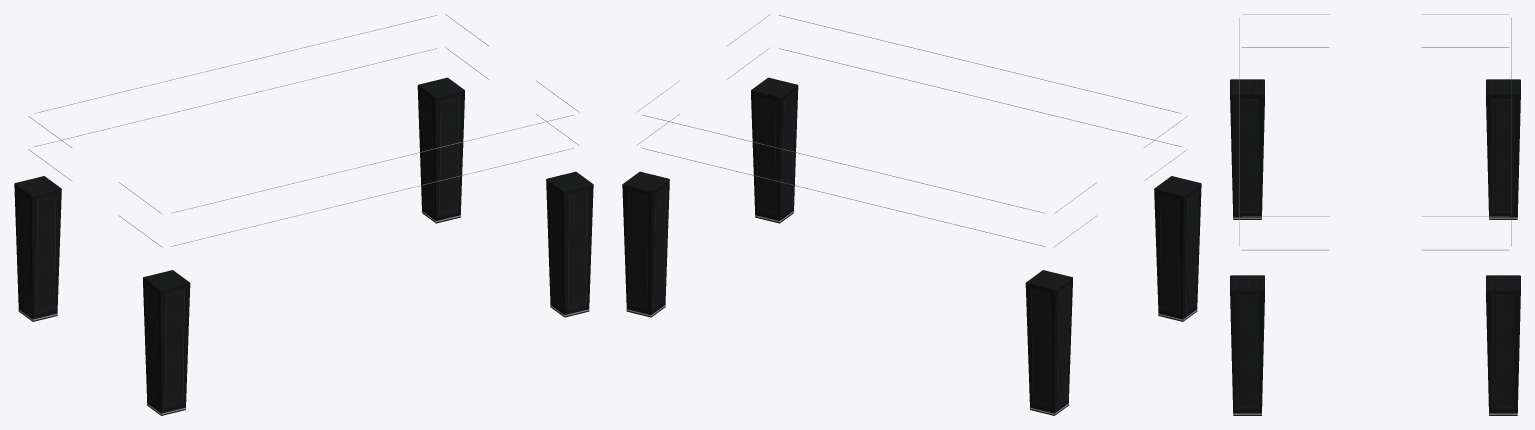
File: pro-league-new-legs.glb
The picture shows the model from 3 angles, left to right: view 1: azimuth 30°, elevation 25°; view 2: azimuth 150°, elevation 25°; view 3: azimuth 270°, elevation 25°; orthographic projection.
Visible parts, largest first — view 1: table_leg_pro.002, table_leg_pro.001, table_leg_pro, table_leg_pro.003; view 2: table_leg_pro.003, table_leg_pro, table_leg_pro.001, table_leg_pro.002; view 3: table_leg_pro, table_leg_pro.001, table_leg_pro.002, table_leg_pro.003.
Part boxes in pixels (box(x1,y1,x2,y2)): table_leg_pro.002: box(546, 171, 593, 314); table_leg_pro.001: box(14, 176, 61, 319); table_leg_pro: box(143, 270, 190, 413); table_leg_pro.003: box(417, 77, 464, 220); table_leg_pro.003: box(622, 171, 669, 314); table_leg_pro: box(1154, 176, 1201, 319); table_leg_pro.001: box(1025, 270, 1072, 413); table_leg_pro.002: box(751, 77, 798, 220); table_leg_pro: box(1230, 79, 1264, 217); table_leg_pro.001: box(1486, 79, 1520, 217); table_leg_pro.002: box(1230, 275, 1264, 413); table_leg_pro.003: box(1486, 275, 1520, 413).
Bounding box in the file's own units: 125 × 54.31 × 72.79.
3 materials, 1 textured.
